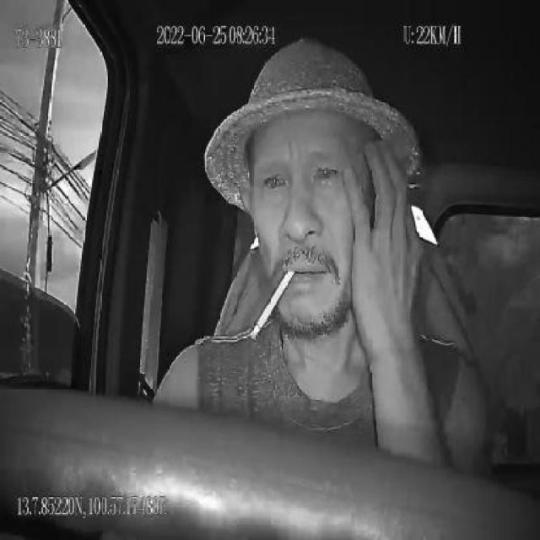smoking: (251, 266, 297, 340)
